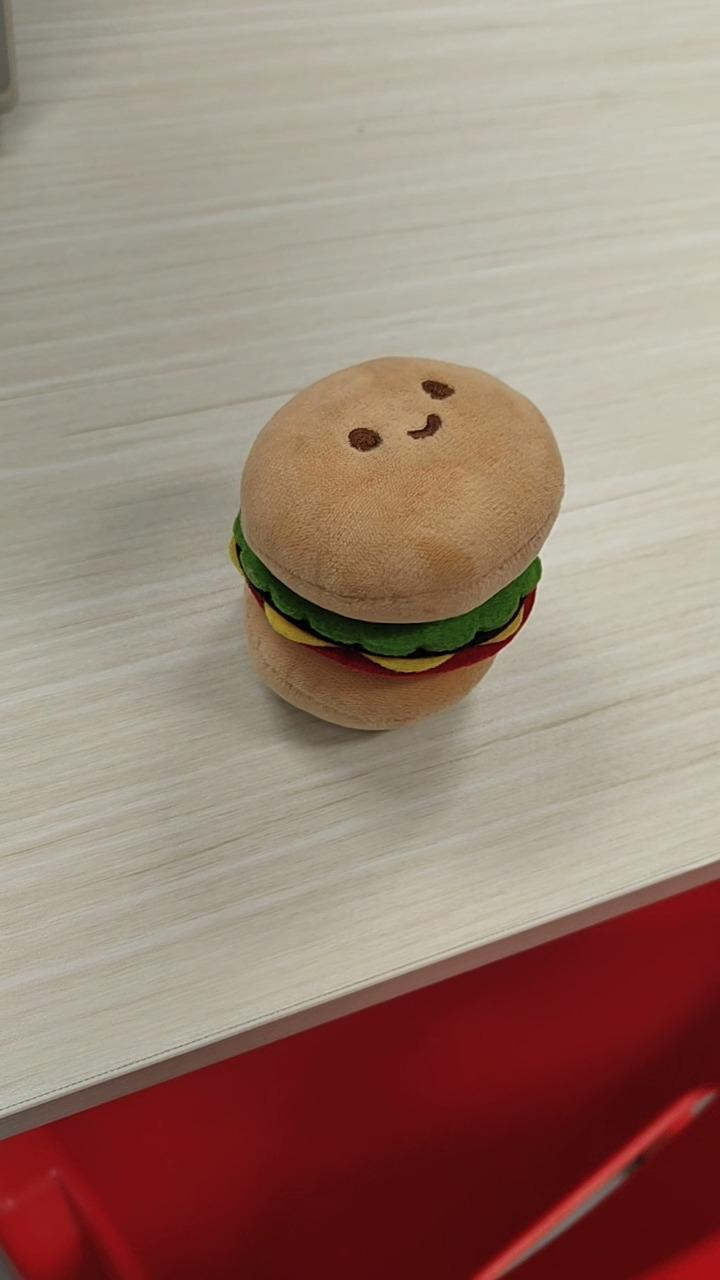hamburger: (227, 354, 565, 733)
